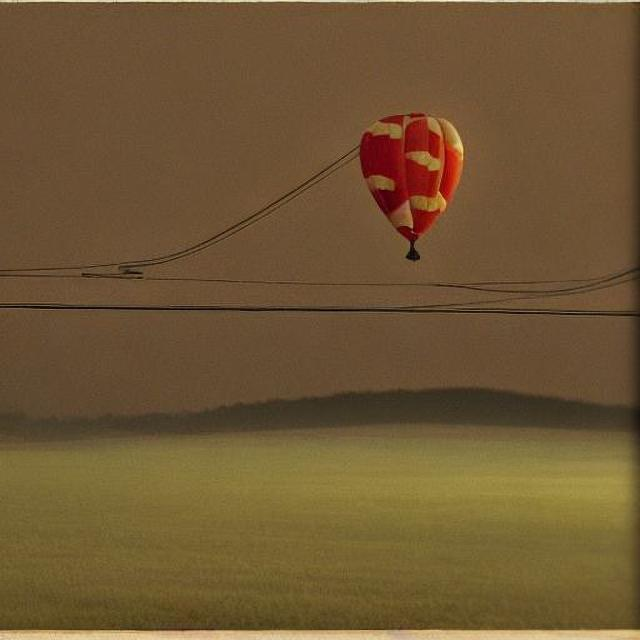balloon: (356, 110, 462, 261)
